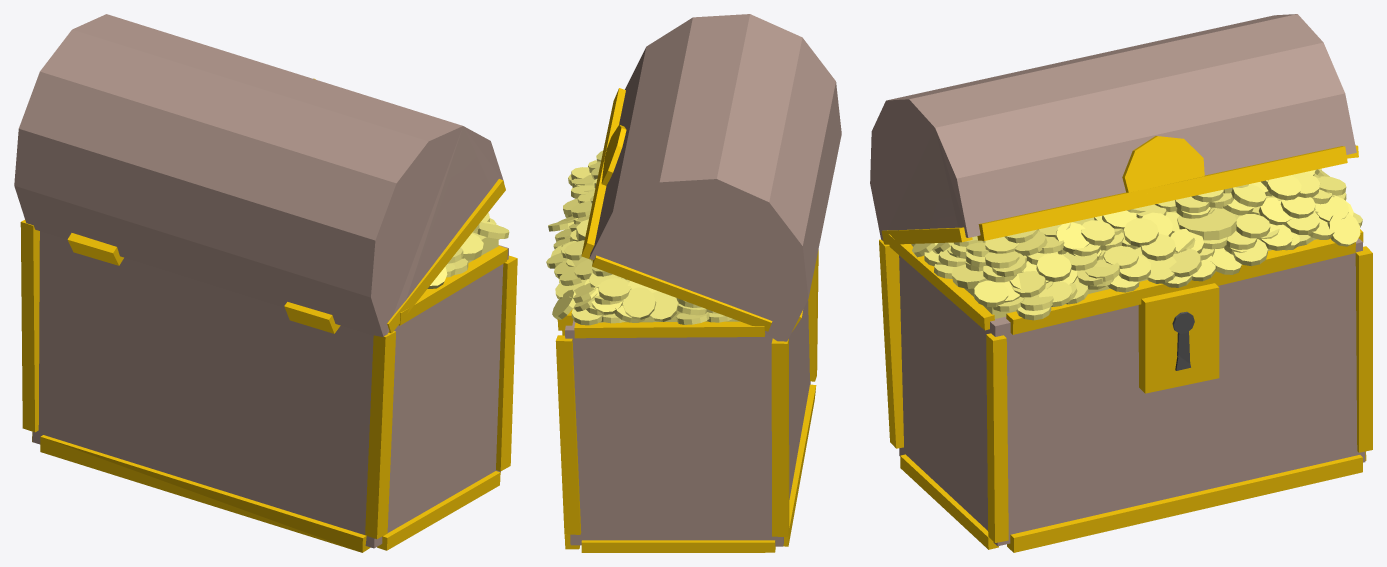
The model's file is treasure_chest.glb.
The picture shows the model from 3 angles, left to right: view 1: azimuth 30°, elevation 25°; view 2: azimuth 150°, elevation 25°; view 3: azimuth 270°, elevation 25°; orthographic projection. The views are drawn at different scales.
Visible parts, largest first — view 1: group944139164, group1673624899, group1176336403, group1253408431, group2130799938, group1188779229, group929752709, group2141862034, group833255169; view 2: group944139164, group1673624899, group2130799938, group1135518375, group621290532, group1111637101, group1596027011, group1849654143, group1176336403, group1253408431, group476825830, group608746827 (+4 smaller); view 3: group1673624899, group944139164, group1948885995, group1849654143, group89601079, group1276403759, group1188779229, group1253408431, group1135518375, group608746827, group833255169, group929752709 (+18 smaller).
Part boxes in pixels (bbox=[...]): group944139164: bbox=[14, 14, 503, 337]; group1673624899: bbox=[32, 231, 508, 548]; group1176336403: bbox=[40, 435, 370, 552]; group1253408431: bbox=[365, 331, 395, 538]; group2130799938: bbox=[20, 220, 39, 432]; group1188779229: bbox=[496, 255, 517, 471]; group929752709: bbox=[377, 471, 500, 550]; group2141862034: bbox=[387, 179, 505, 333]; group833255169: bbox=[399, 245, 507, 325]; group944139164: bbox=[589, 14, 841, 341]; group1673624899: bbox=[565, 300, 810, 546]; group2130799938: bbox=[771, 338, 789, 536]; group1135518375: bbox=[555, 335, 581, 534]; group621290532: bbox=[574, 321, 765, 338]; group1111637101: bbox=[581, 540, 775, 552]; group1596027011: bbox=[592, 255, 772, 331]; group1849654143: bbox=[581, 88, 625, 260]; group1176336403: bbox=[783, 384, 816, 546]; group1253408431: bbox=[808, 249, 818, 381]; group476825830: bbox=[623, 287, 656, 319]; group608746827: bbox=[601, 124, 626, 185]; group1673624899: bbox=[899, 238, 1365, 546]; group944139164: bbox=[870, 14, 1356, 241]; group1948885995: bbox=[1138, 283, 1219, 393]; group1849654143: bbox=[977, 146, 1347, 240]; group89601079: bbox=[1007, 455, 1362, 552]; group1276403759: bbox=[1006, 238, 1355, 334]; group1188779229: bbox=[986, 333, 1008, 542]; group1253408431: bbox=[879, 239, 903, 448]; group1135518375: bbox=[1355, 246, 1372, 452]; group608746827: bbox=[1122, 136, 1204, 194]; group833255169: bbox=[888, 234, 994, 330]; group929752709: bbox=[900, 454, 998, 549].
Bounding box in the file's own units: 0.3611 × 0.3813 × 0.4293.
